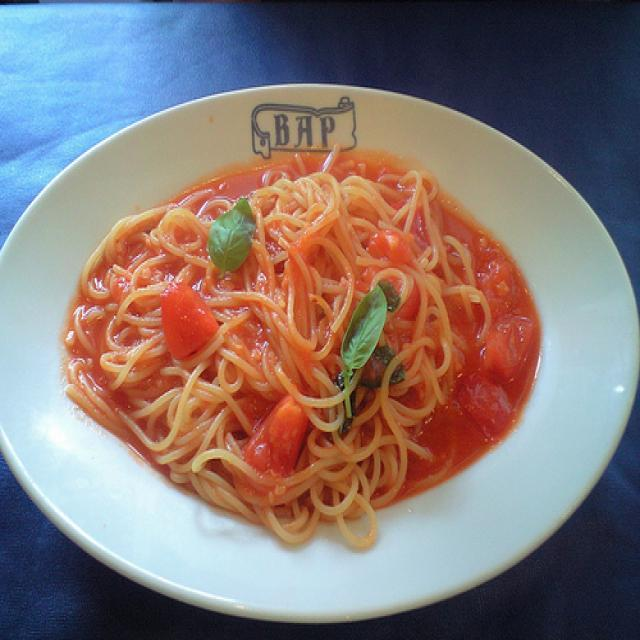Pasta: (69, 146, 534, 516)
